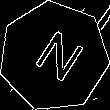N_SW: (23, 24, 84, 89)
